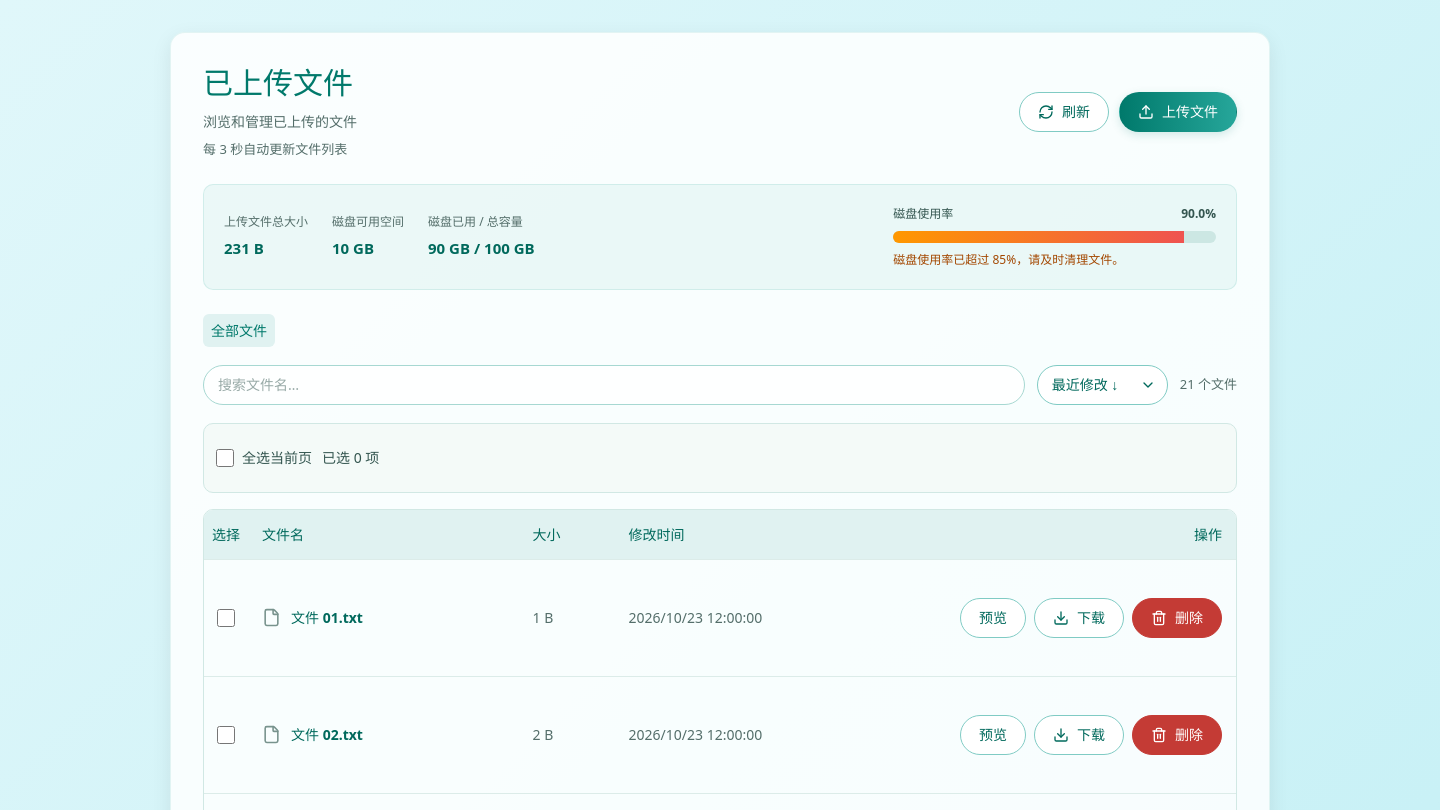
Test: selects only the current page and clears selection on pagination, sorting, and search
The width and height of the screenshot is (1440, 810).
Expected: the text "文件 01.txt" is shown, x1=291 y1=607 x2=363 y2=628
Click the checkbox labelled "全选当前页": point(225, 458) x1=216 y1=448 x2=234 y2=466
(page scrolled)
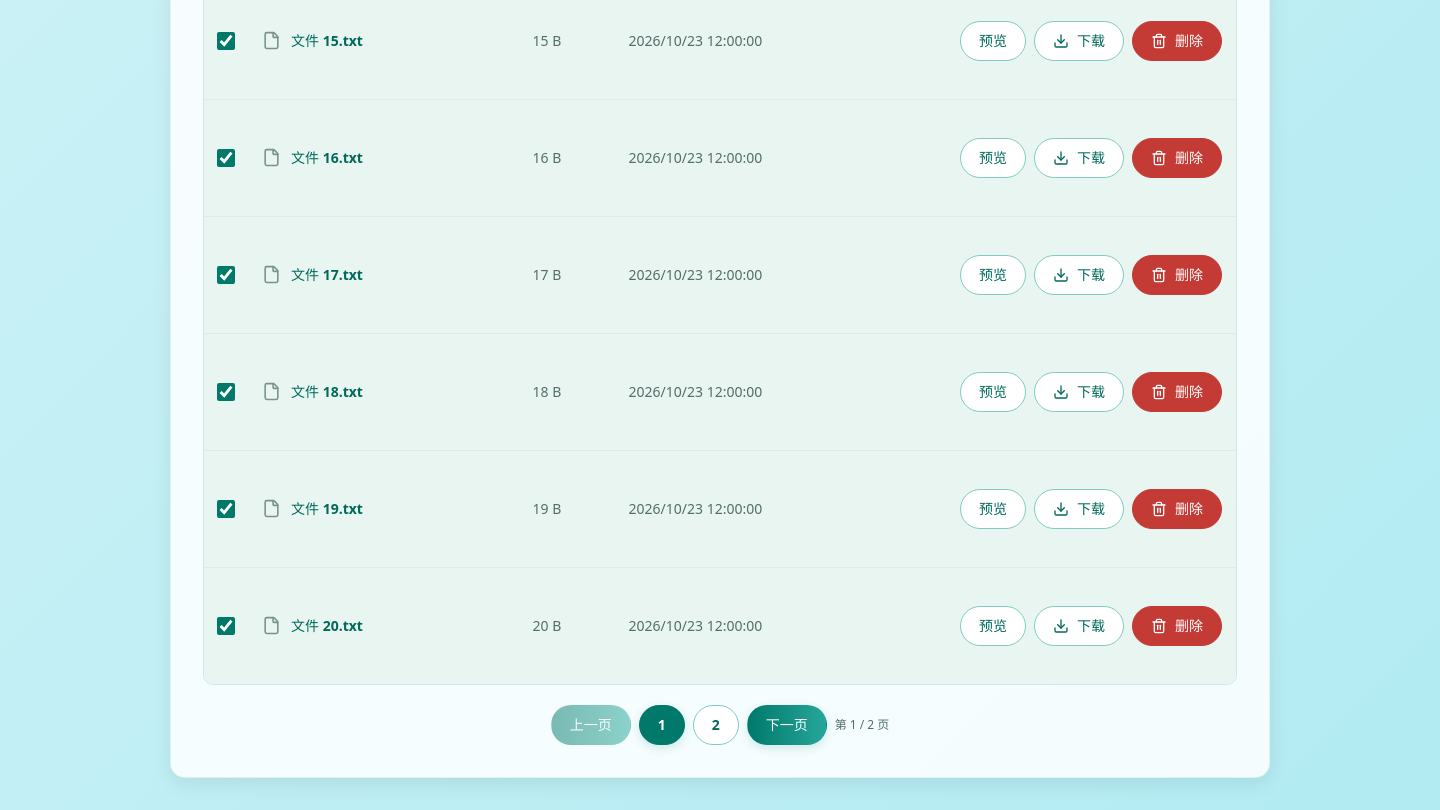
Click the button "下一页": point(787, 724) x1=747 y1=704 x2=827 y2=744
(page scrolled)
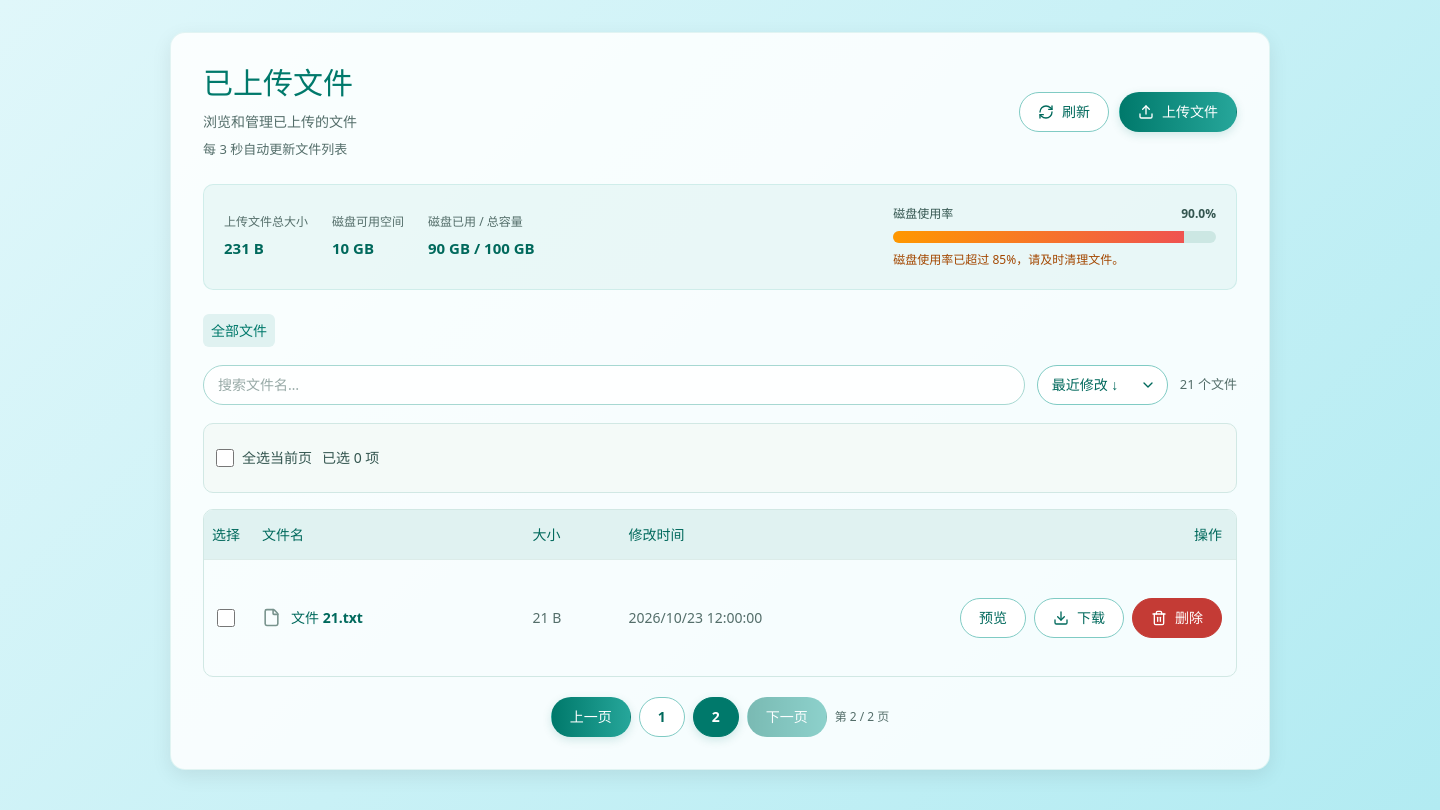
Now the text "已选 0 项" is shown, box x1=322 y1=447 x2=379 y2=468
Click the checkbox named "选择 文件 21.txt": point(226, 618) x1=217 y1=608 x2=235 y2=626
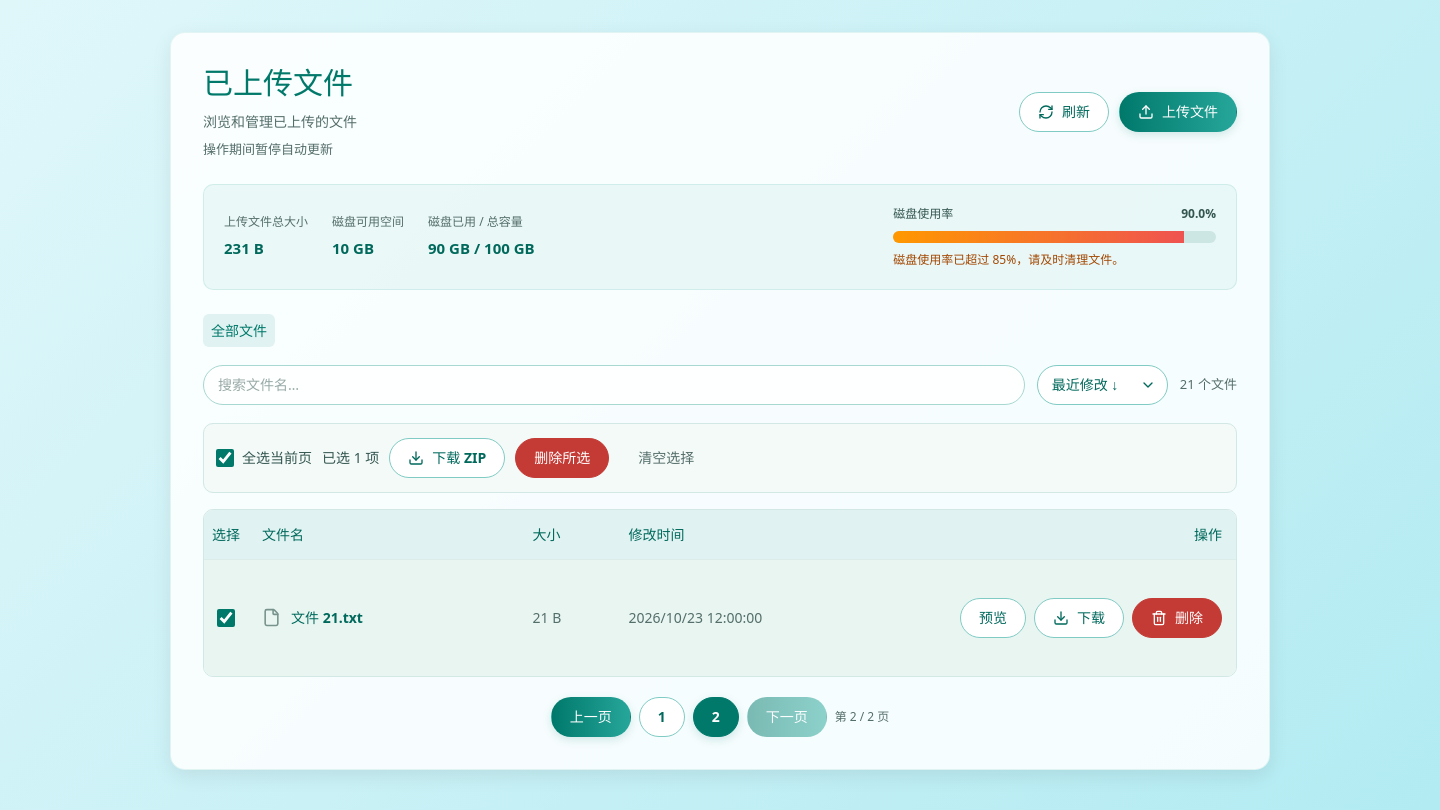
Now the text "已选 1 项" is shown, box x1=322 y1=447 x2=379 y2=468
Select "文件名 A→Z" in the dropdown named "文件排序": point(1102, 384) x1=1037 y1=364 x2=1168 y2=404
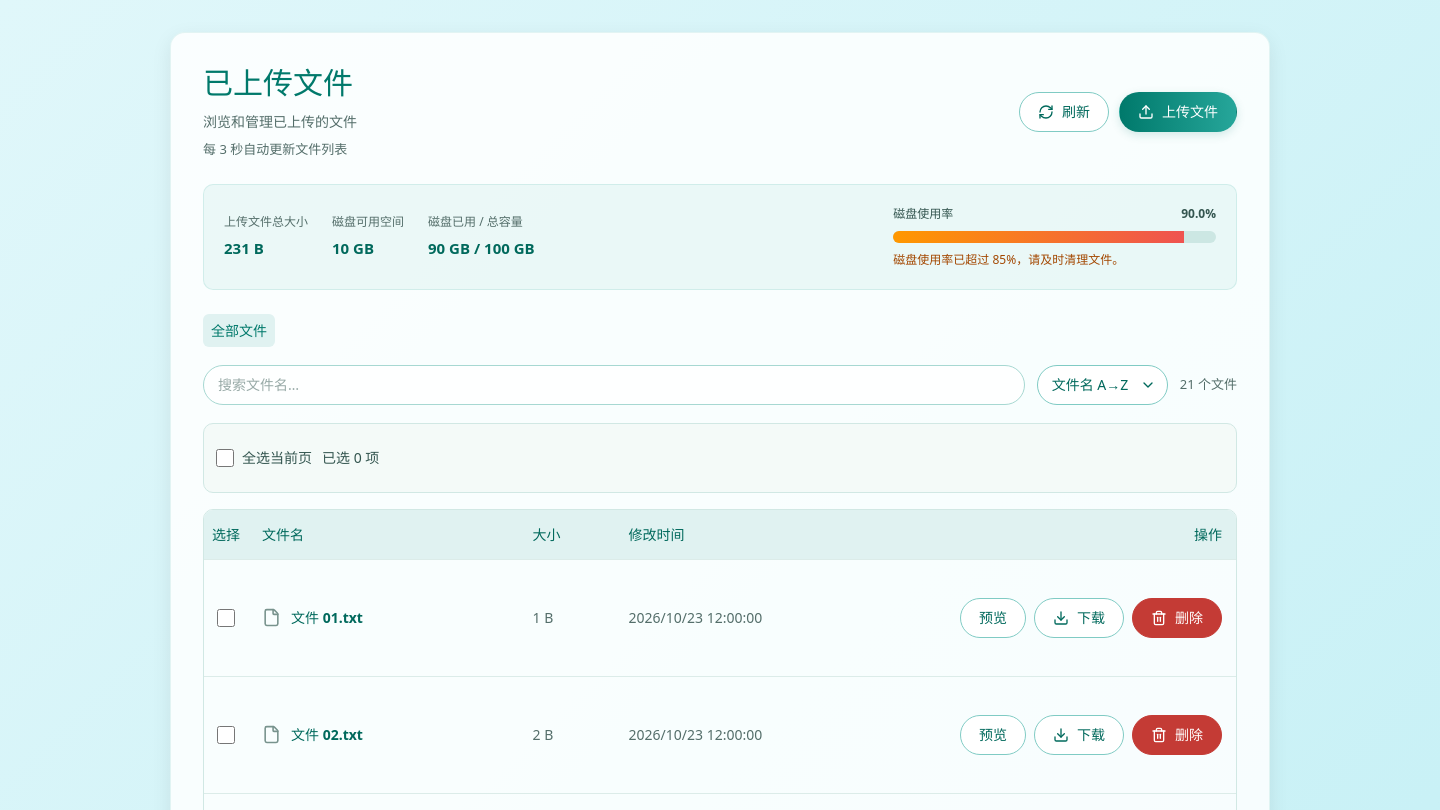
Now the text "已选 0 项" is shown, box x1=322 y1=447 x2=379 y2=468
Click the checkbox named "选择 文件 01.txt": point(226, 618) x1=217 y1=608 x2=235 y2=626
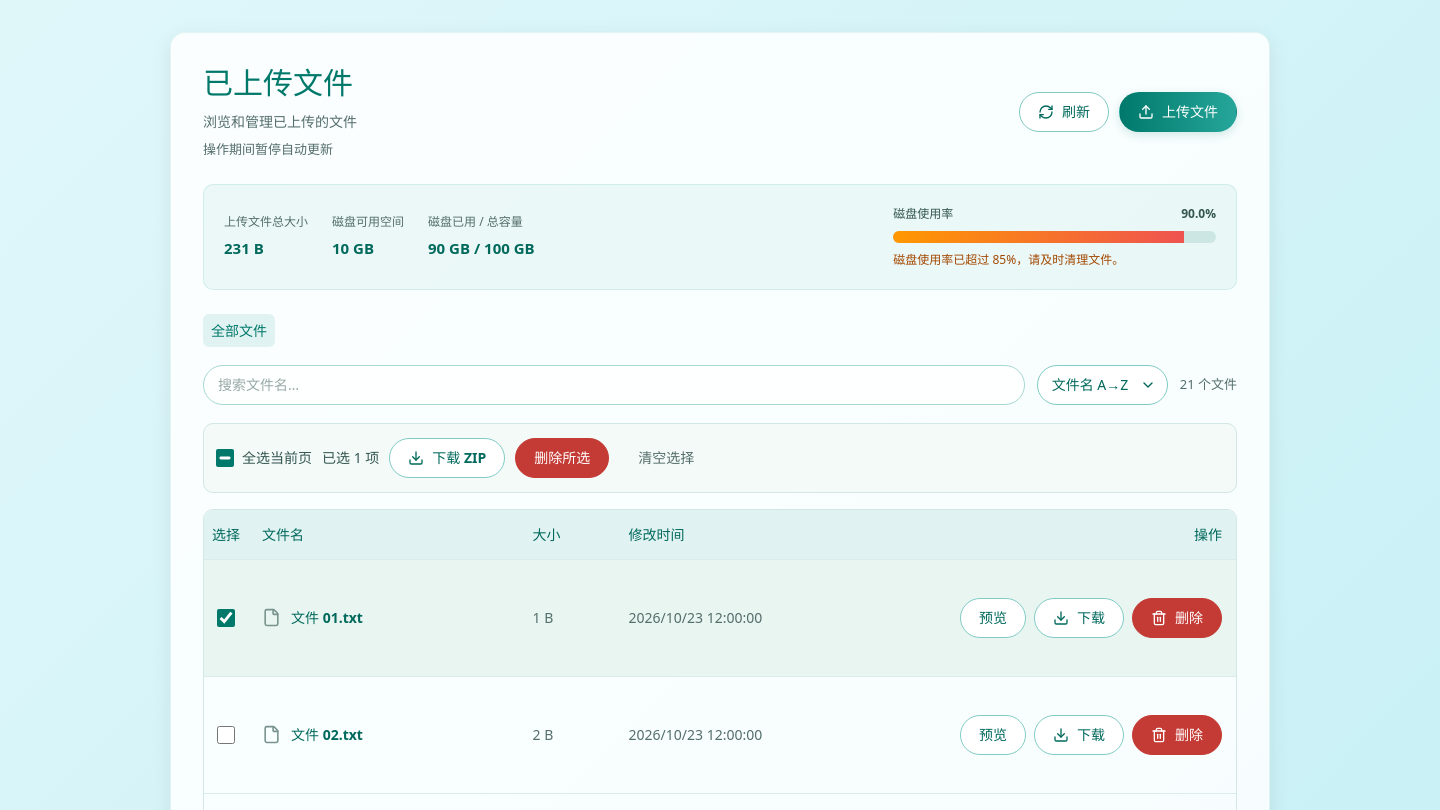
In the search field: point(614, 384) x1=203 y1=364 x2=1025 y2=404, type "01"
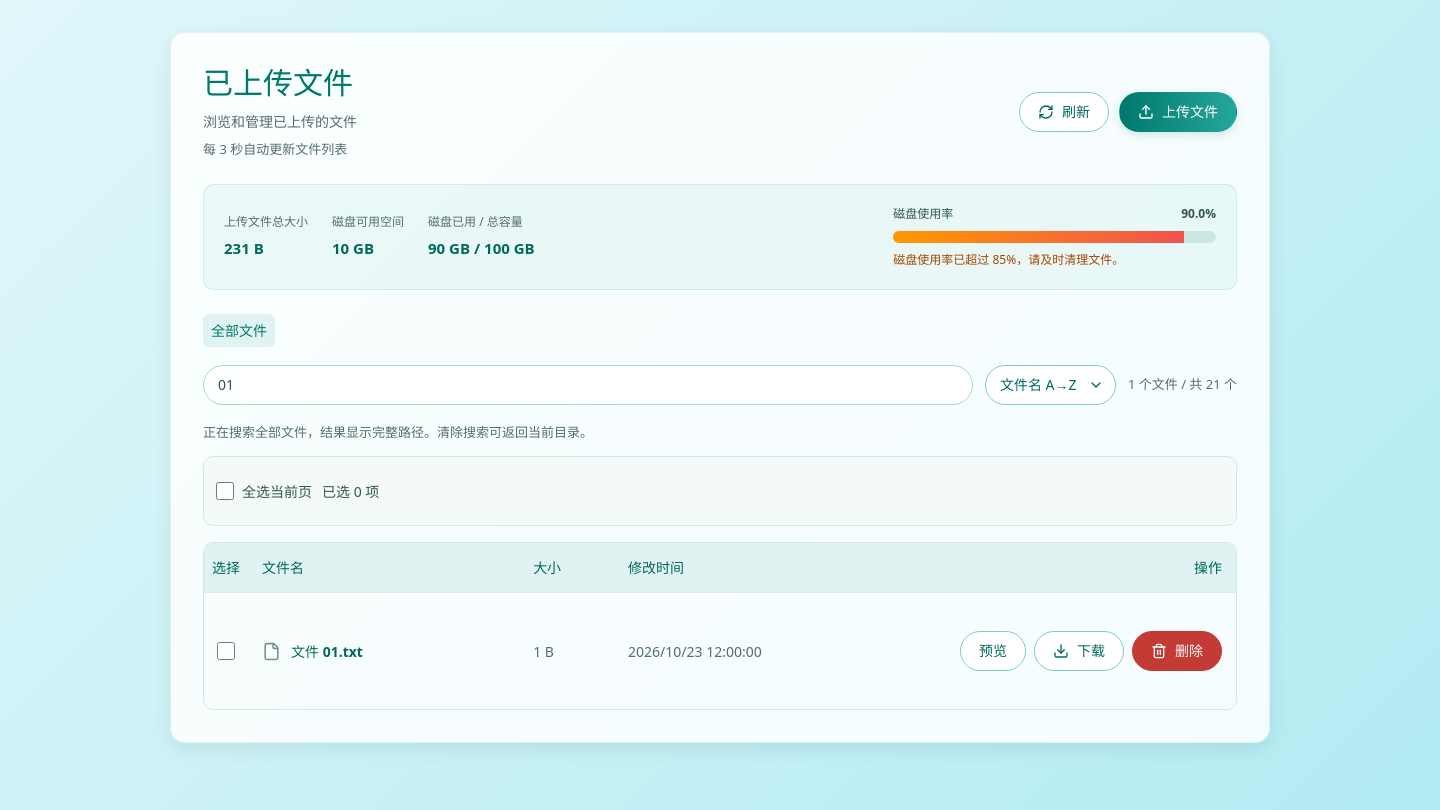
Now the text "已选 0 项" is shown, box x1=322 y1=480 x2=379 y2=502
